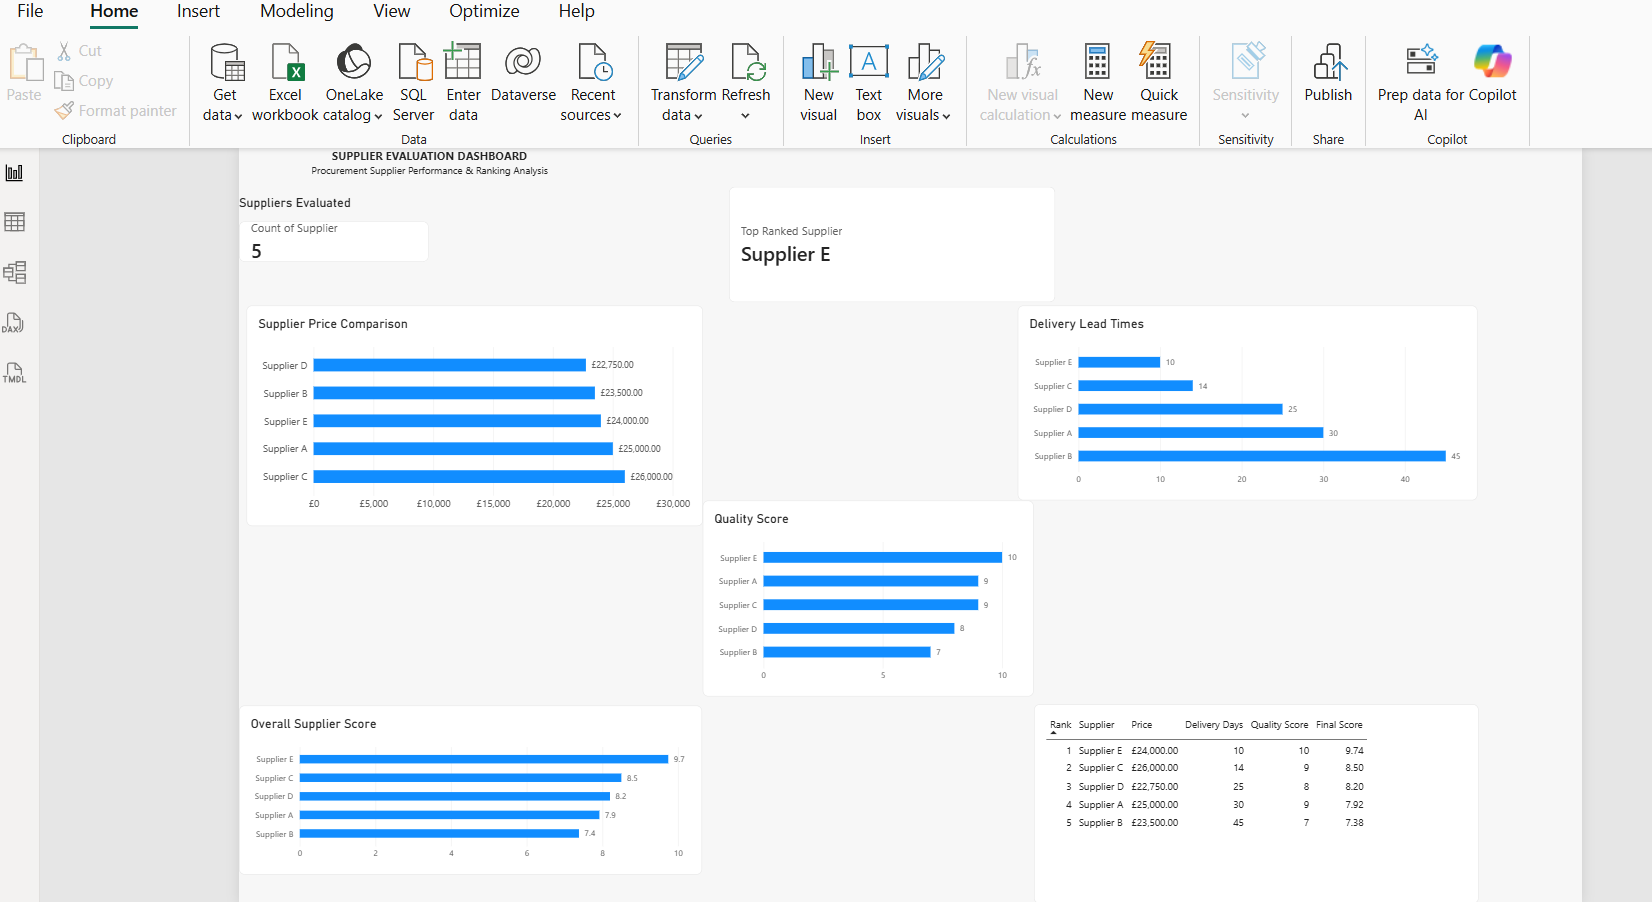

The dashboard page shown, as its layout file describes it:
{"tool":"powerbi","page":{"name":"Page 1","canvas":[1920,1080],"ordinal":0},"visuals":[{"type":"textbox","box":[10,0,523.3,68.3],"z":0},{"type":"cardVisual","title":"Suppliers Evaluated","fields":{"Data":["CountNonNull(supplier_results.Supplier)"]},"box":[0,68.3,271.7,95],"z":1000},{"type":"clusteredBarChart","title":"Supplier Price Comparison ","fields":{"Category":["supplier_results.Supplier"],"Y":["Sum(supplier_results.Price)"]},"box":[10,225,651.7,315],"z":2000},{"type":"clusteredBarChart","title":"Overall Supplier Score","fields":{"Category":["supplier_results.Supplier"],"Y":["Sum(supplier_results.Final_Score)"]},"box":[0,795.7,661.4,241.4],"z":2001},{"type":"cardVisual","fields":{"Data":["Min(supplier_results.Supplier)"]},"box":[700,55,466.7,165],"z":2002},{"type":"clusteredBarChart","title":"Delivery Lead Times","fields":{"Category":["supplier_results.Supplier"],"Y":["Sum(supplier_results.Delivery_Days)"]},"box":[1113.3,225,656.7,278.3],"z":2003},{"type":"clusteredBarChart","title":"Quality Score","fields":{"Category":["supplier_results.Supplier"],"Y":["Sum(supplier_results.Quality_Score)"]},"box":[661.7,503.3,472.9,280],"z":2004},{"type":"tableEx","fields":{"Values":["Sum(supplier_results.Rank)","supplier_results.Supplier","Sum(supplier_results.Price)","Sum(supplier_results.Delivery_Days)","Sum(supplier_results.Quality_Score)","Sum(supplier_results.Final_Score)"]},"box":[1135,795,635,285],"z":2005}]}

Visuals, with their boxes on the page's 1920x1080 design canvas (x1, y1, x2, y2). These are canvas units, not pixel positions in the 1652x902 screenshot, which may show the page scaled, cropped or inside an application window:
textbox: select_region(10, 0, 533, 68)
"Suppliers Evaluated" cardVisual: select_region(0, 68, 272, 163)
"Supplier Price Comparison " clusteredBarChart: select_region(10, 225, 662, 540)
"Overall Supplier Score" clusteredBarChart: select_region(0, 796, 661, 1037)
cardVisual - Min(supplier_results.Supplier): select_region(700, 55, 1167, 220)
"Delivery Lead Times" clusteredBarChart: select_region(1113, 225, 1770, 503)
"Quality Score" clusteredBarChart: select_region(662, 503, 1135, 783)
tableEx - Sum(supplier_results.Rank) x supplier_results.Supplier: select_region(1135, 795, 1770, 1080)
